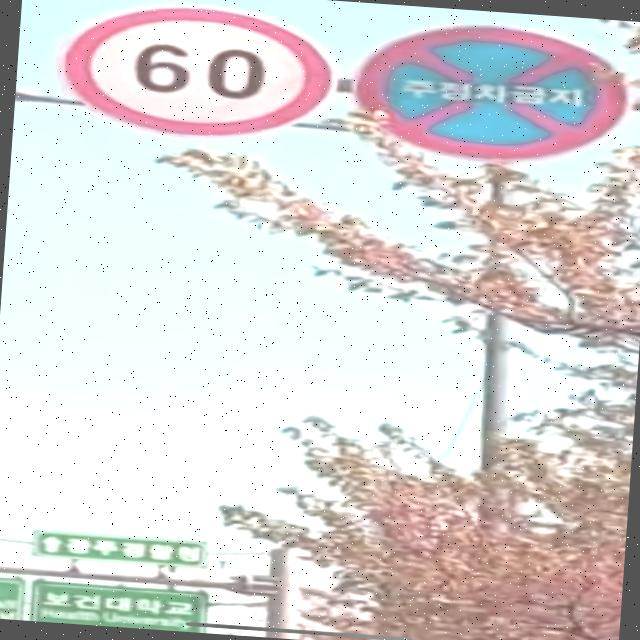Ograniczenie predkosci do 60: (56, 0, 340, 148)
